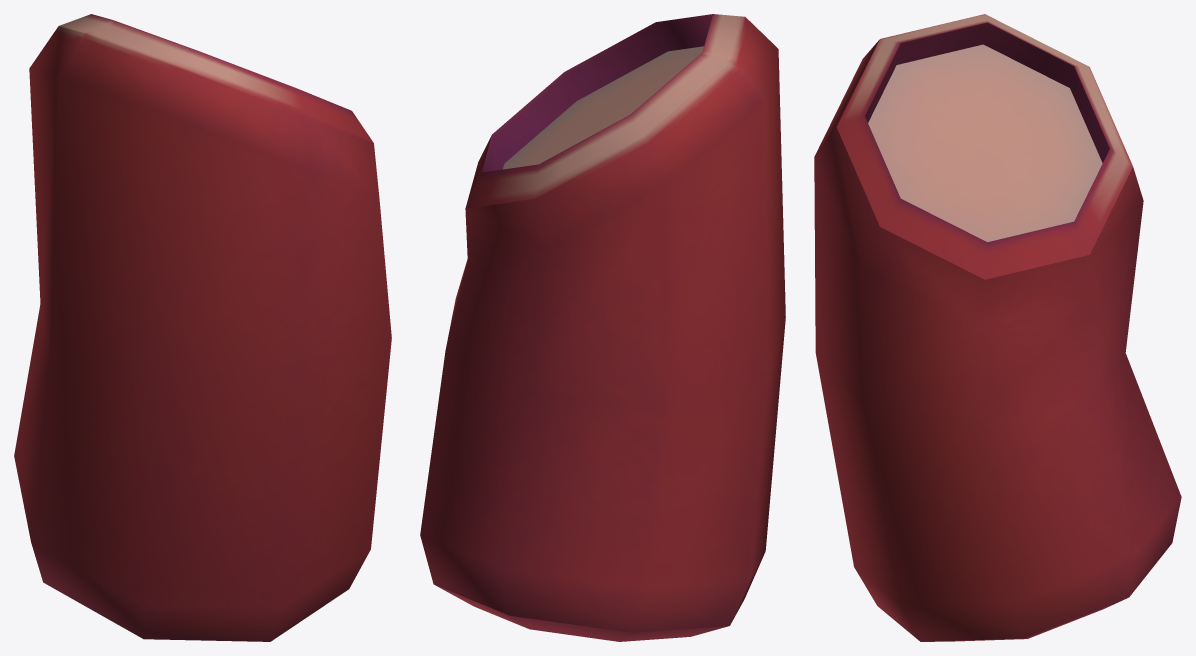
Rendered from trash02_mesh.fbx.
3 views of the same model, side by side, from view 1: azimuth 30°, elevation 25°; view 2: azimuth 150°, elevation 25°; view 3: azimuth 270°, elevation 25° (orthographic). The views are drawn at different scales.
Parts seen in each view (by area): view 1: coke; view 2: coke; view 3: coke.
Boxes of the visible parts, x1=… form: coke: x1=14, y1=14, x2=391, y2=641; coke: x1=420, y1=14, x2=785, y2=641; coke: x1=814, y1=14, x2=1181, y2=641.
Size of the model in its own units: 0.8801 by 1.59 by 0.9619.
